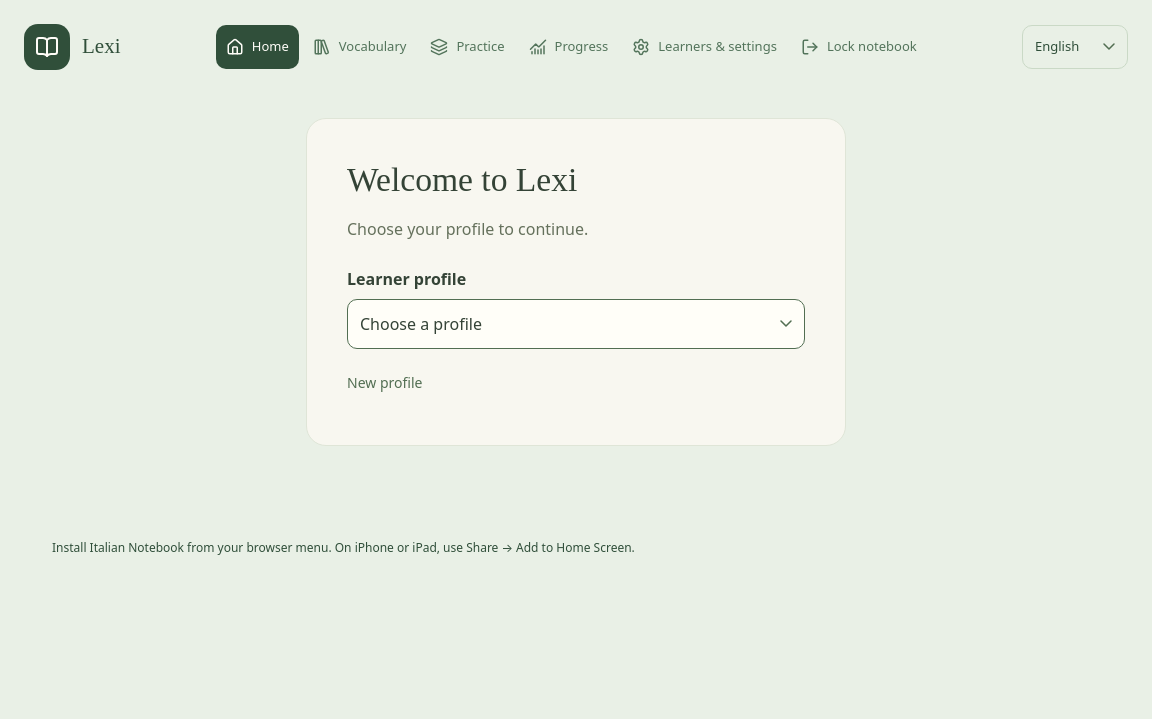
Scenario: home offers profile selection without auto-selecting or practice
Check: the text "Choose your profile to continue." is shown, box 347,218 -> 588,240
Check: the link "Start practice" is not shown
Select "Foteini" in the dropdown labelled "Learner profile". click: coordinates (576, 324)
box: 347,299 -> 805,349
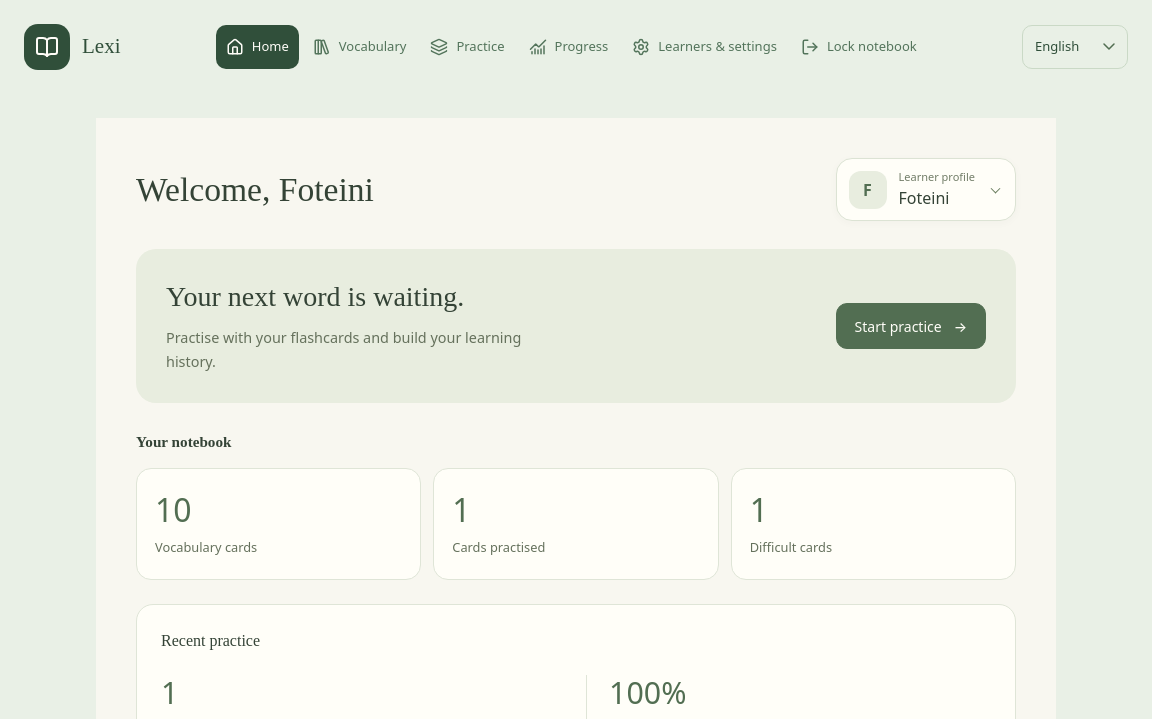
Check: the heading "Welcome, Foteini" is shown, box 136,169 -> 374,211
